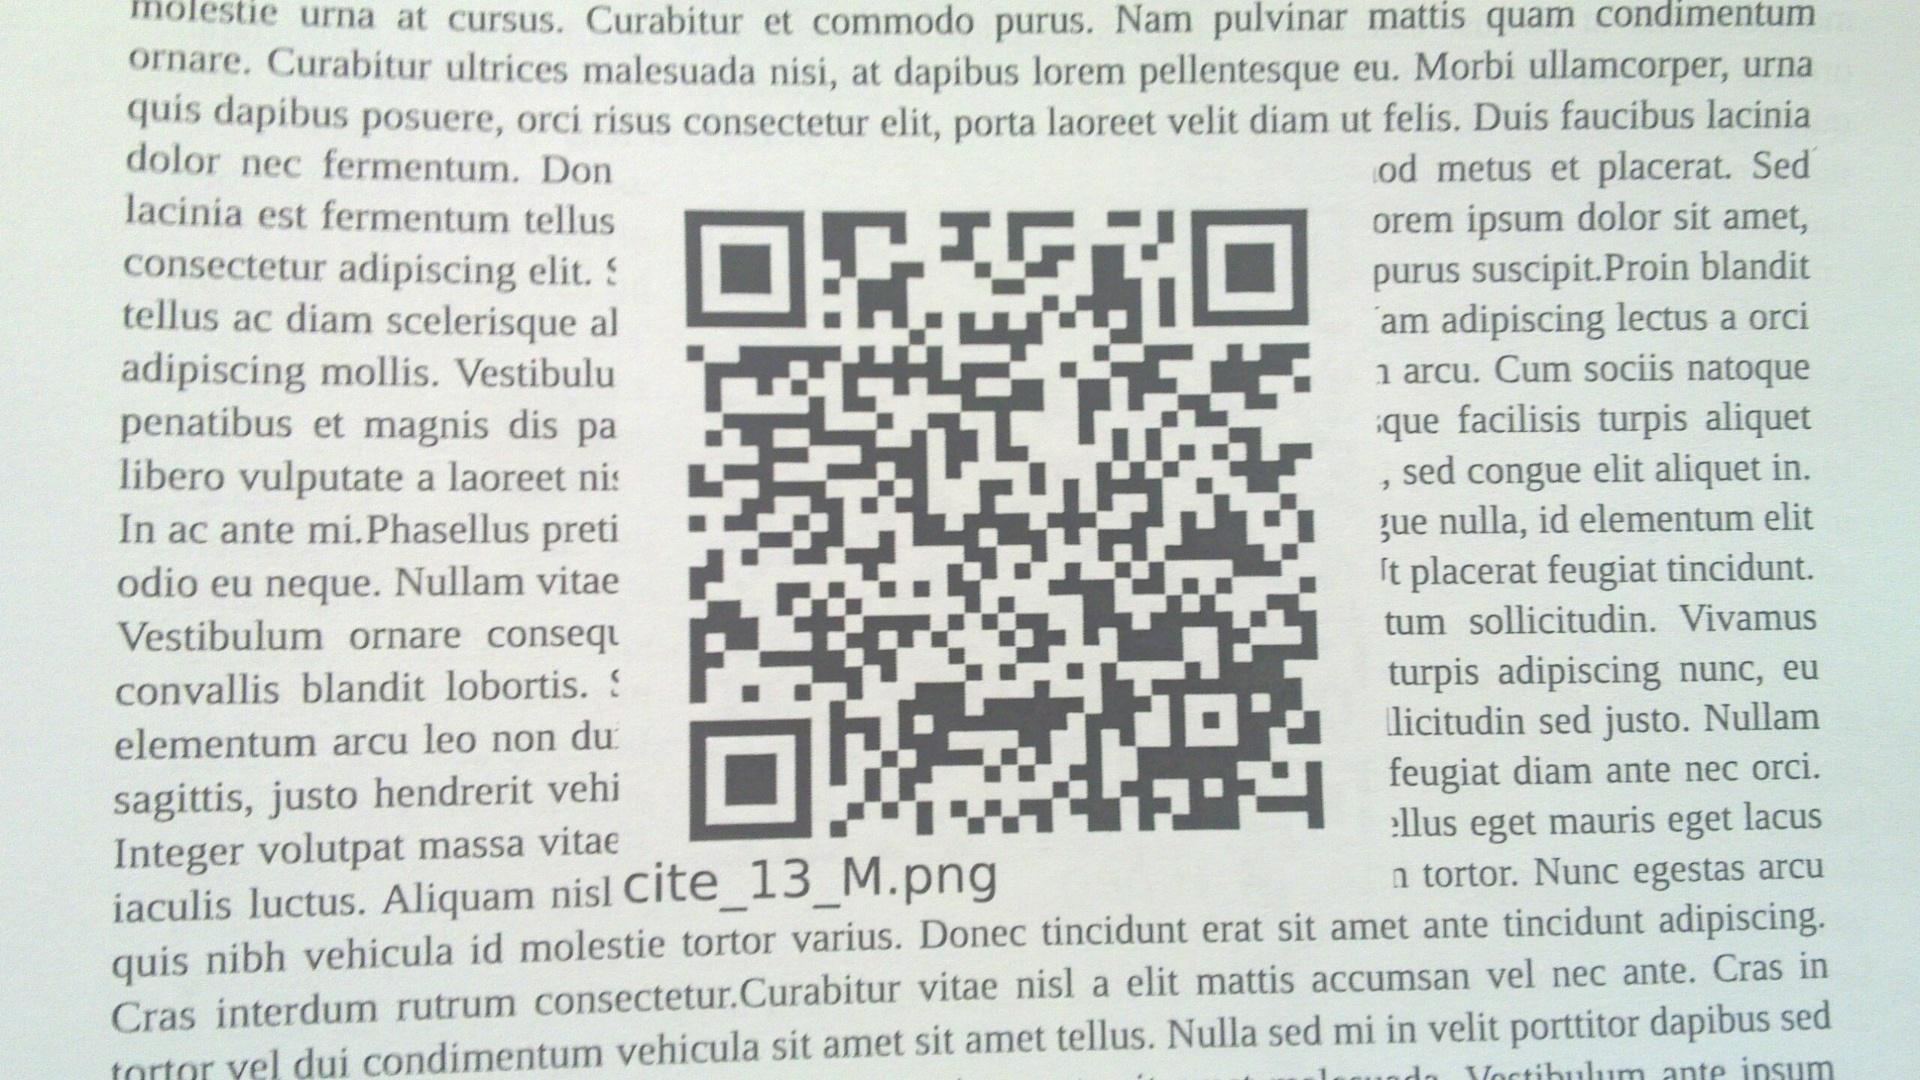Finder pattern: (674, 200, 815, 334), (683, 711, 818, 845), (1185, 202, 1313, 332)
